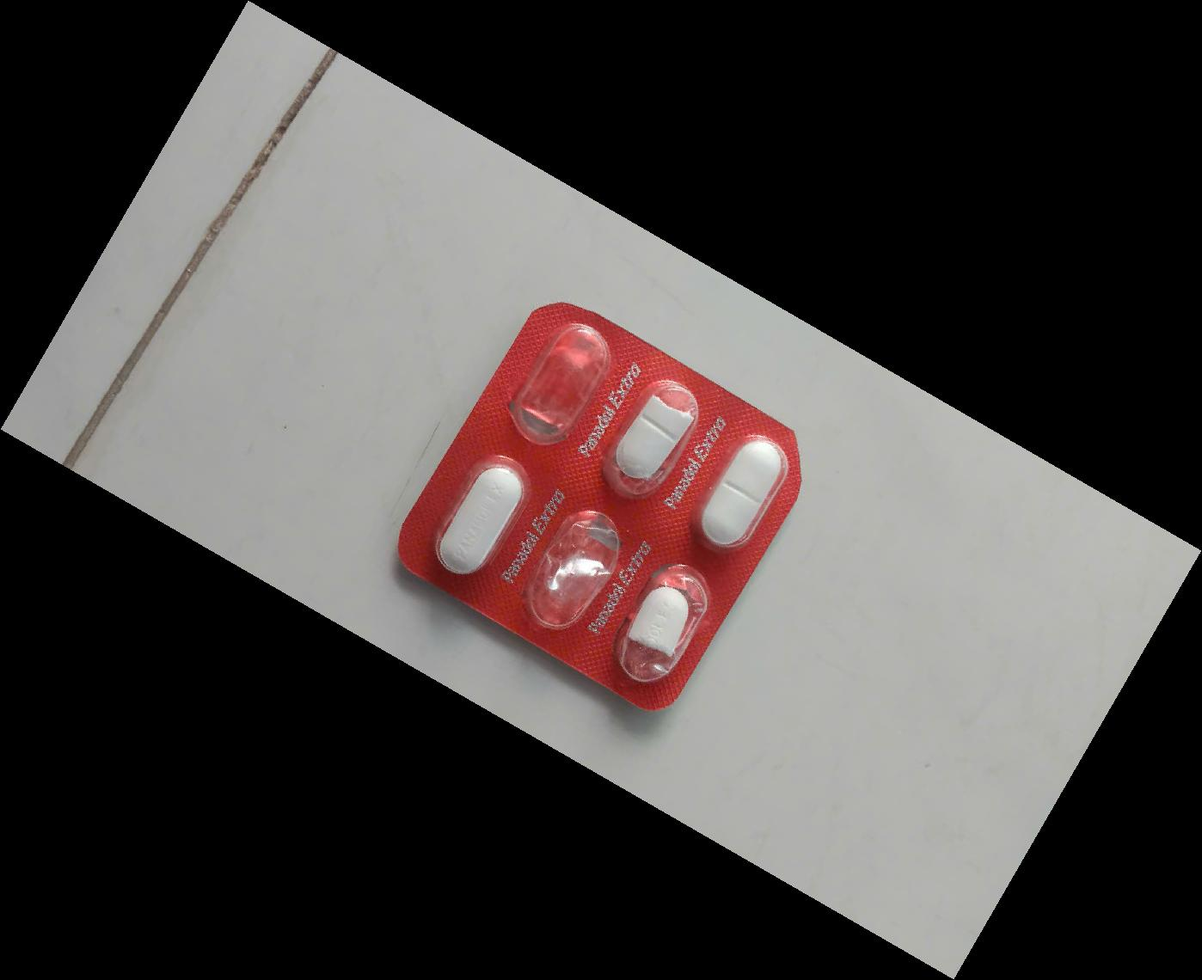Empty: (515, 493, 639, 639), (496, 309, 619, 455)
Full: (419, 446, 542, 592), (683, 423, 806, 569)
Partial: (600, 555, 724, 701), (594, 366, 717, 512)
